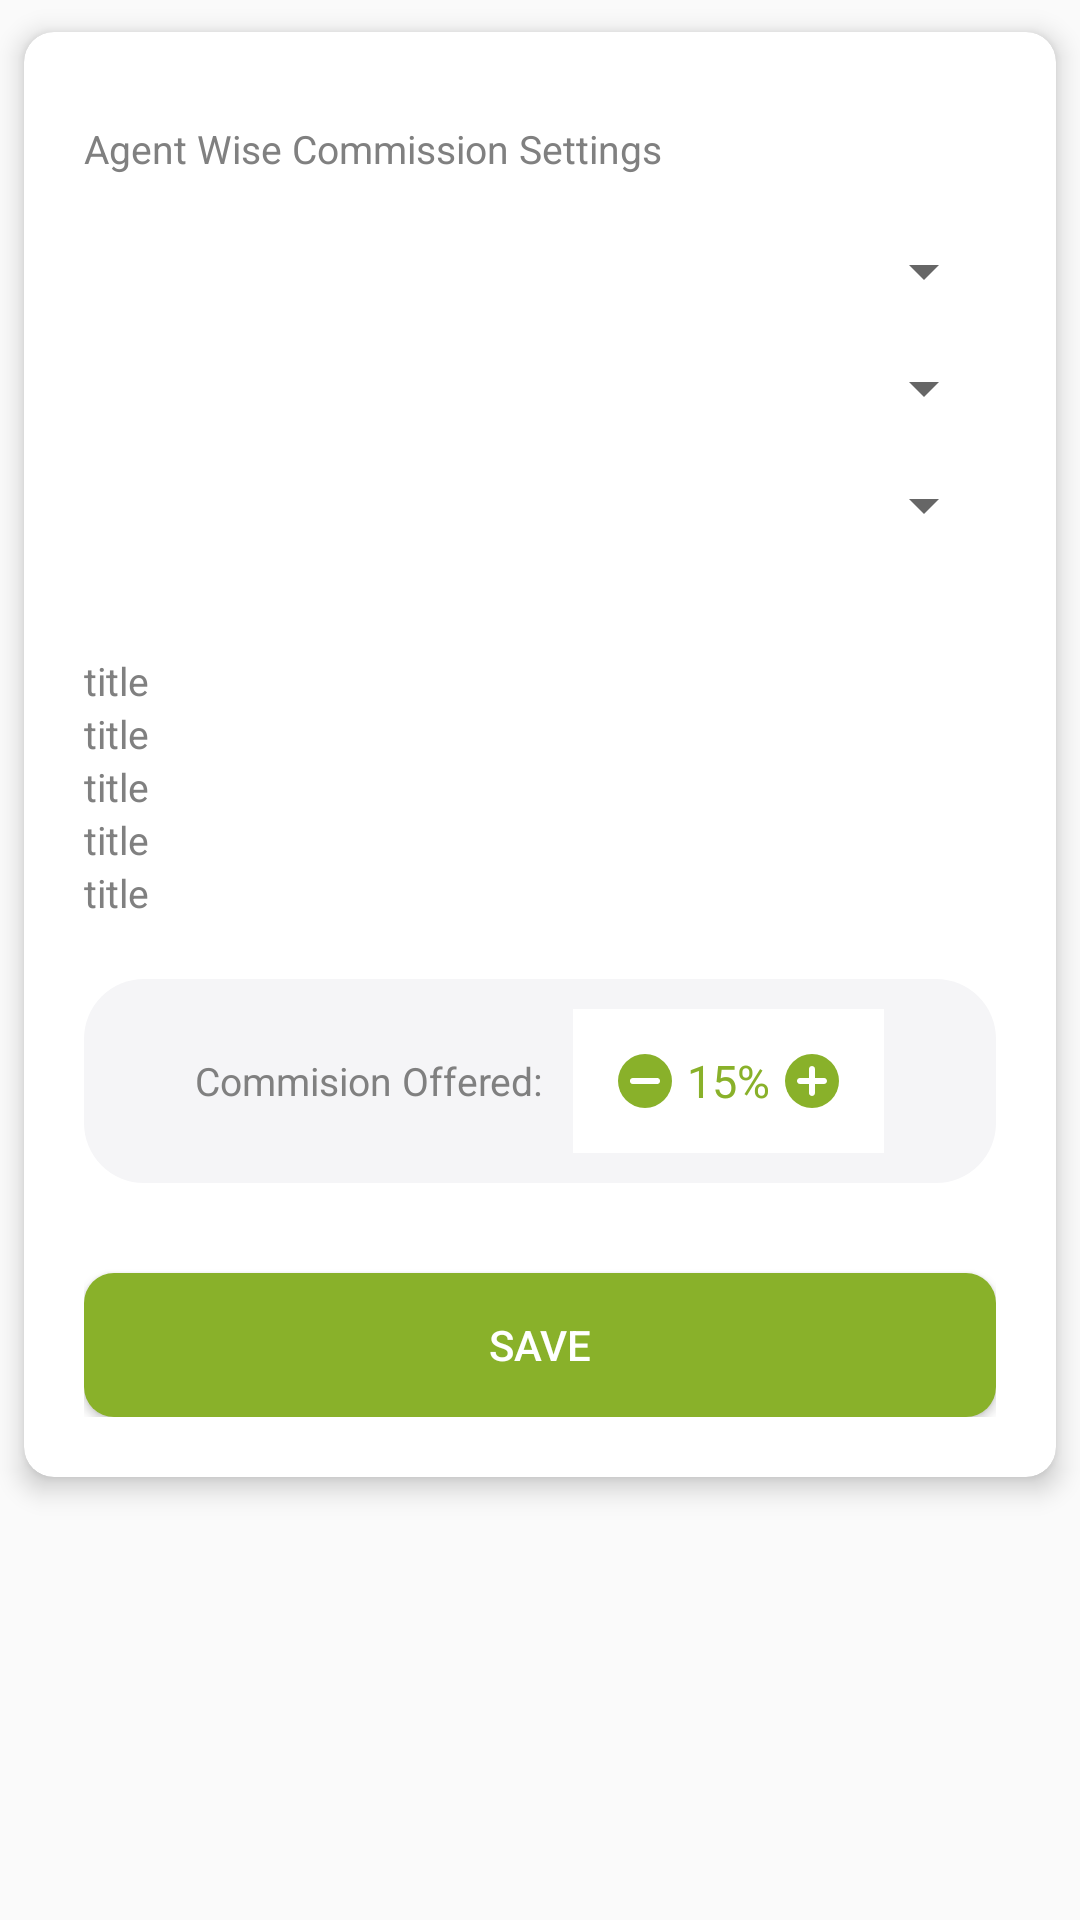

Named icons in this screenshot (1080x1920) and their bounding boxes, (x1, y1, x2, y2):
minus: (618, 1054, 672, 1108)
plus: (785, 1054, 839, 1108)
